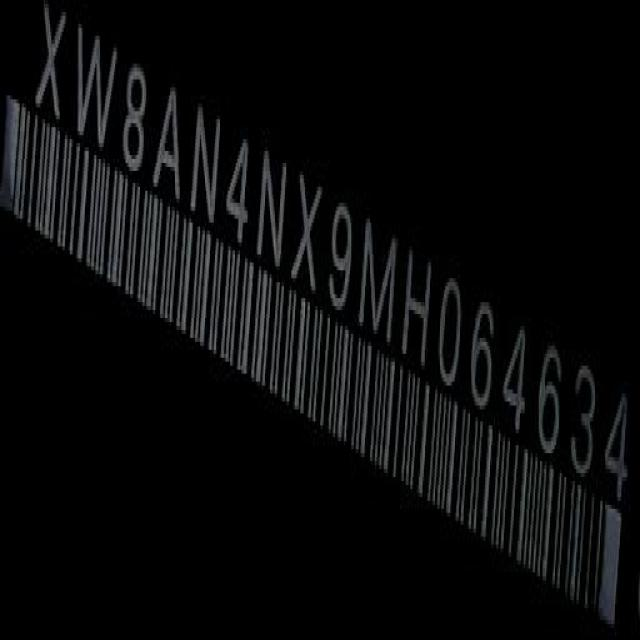0: (438, 271, 463, 393)
3: (572, 353, 597, 481)
4: (503, 322, 528, 440), (606, 380, 630, 496), (227, 132, 249, 242)
6: (536, 338, 566, 464), (467, 298, 493, 418)
8: (123, 57, 151, 178)
9: (328, 195, 354, 318)
A: (154, 80, 182, 202)
H: (402, 244, 432, 371)
M: (363, 218, 401, 350)
N: (253, 144, 289, 272), (191, 100, 225, 228)
W: (76, 22, 118, 156)
X: (36, 5, 68, 126), (295, 168, 321, 295)
